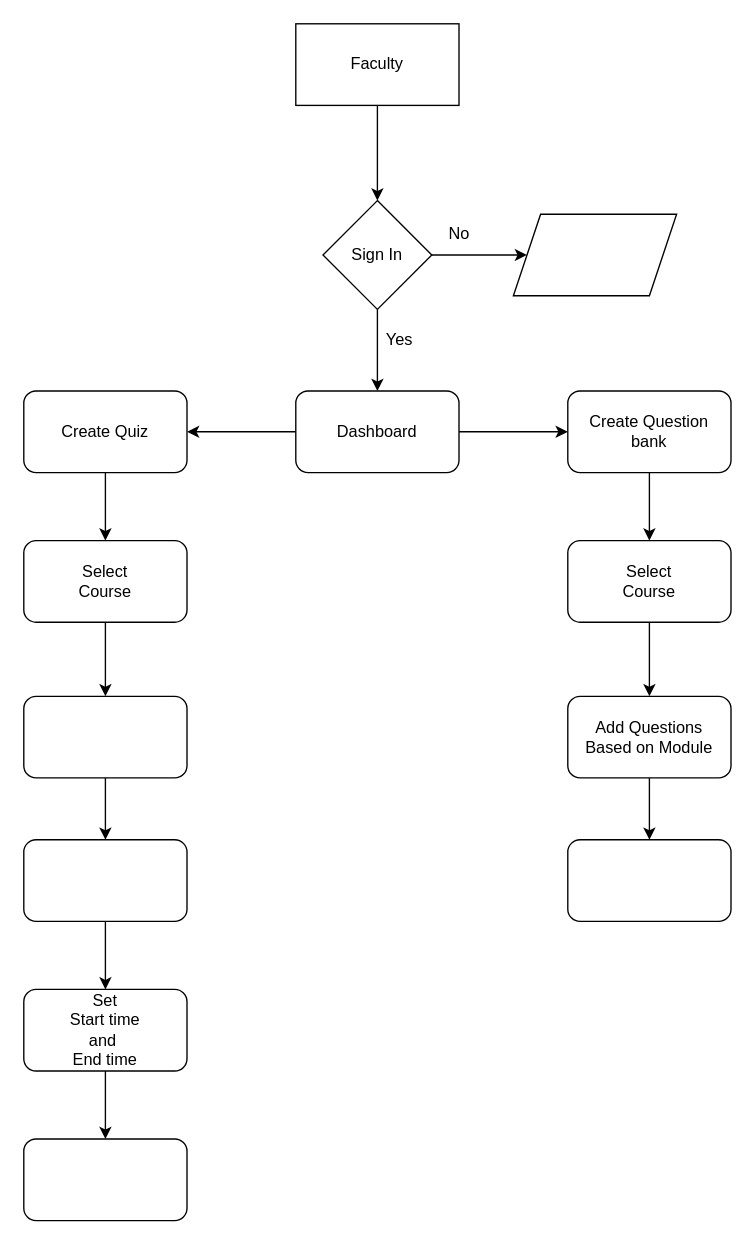
This 755x1244 diagram has some shape labels left out. The shapes that lost their labels are listed below. From the top down, each one's centre as x and y in pixels, then its label:
(x=594, y=254): Invalid Credentials
(x=104, y=736): Select Question Bank
(x=104, y=879): Select Student
(x=648, y=879): Create
(x=104, y=1179): Set Duration
